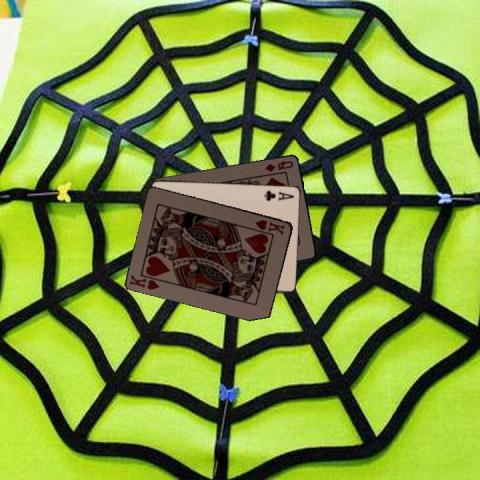Ac: (261, 187, 296, 202)
Kh: (252, 217, 286, 236), (127, 272, 161, 291)
Qd: (262, 158, 295, 174)
